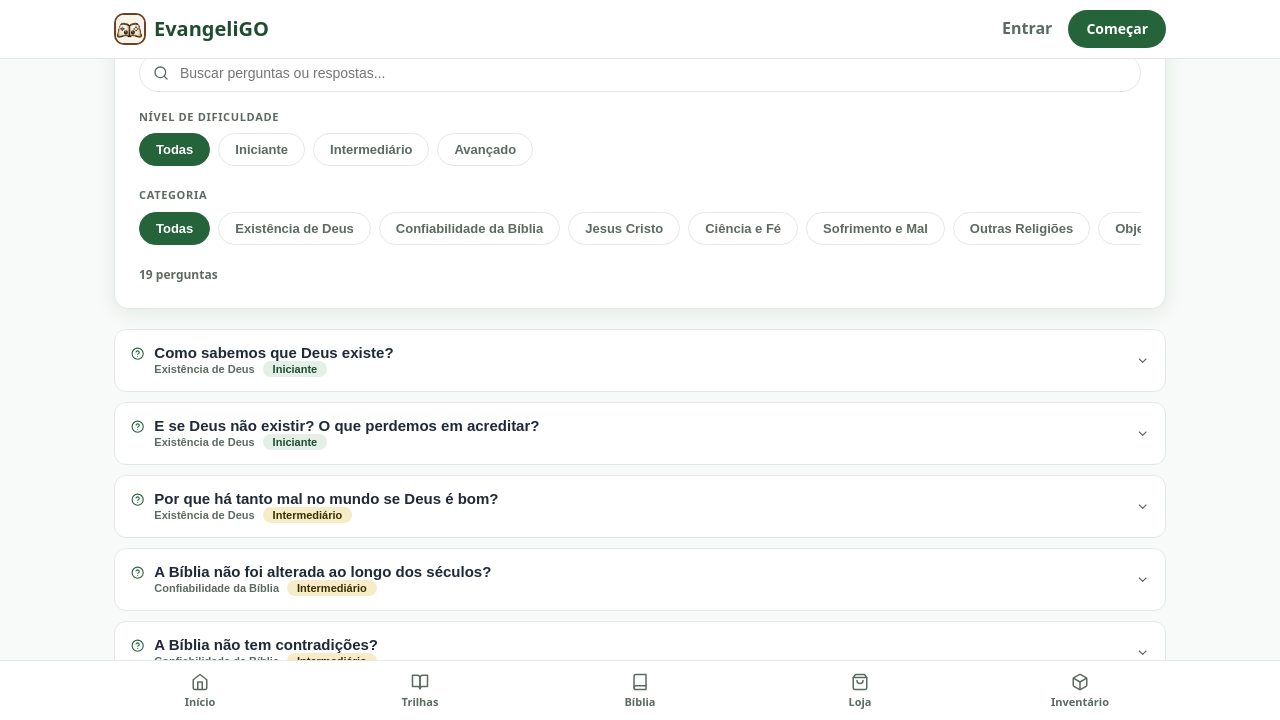
Test: ApologeticaPage › marca a pergunta como estudada ao expandir
The width and height of the screenshot is (1280, 720).
(page scrolled)
Click the button "Como sabemos que Deus existe? Existência de Deus Iniciante". click: (274, 353)
box: [115, 330, 1165, 391]
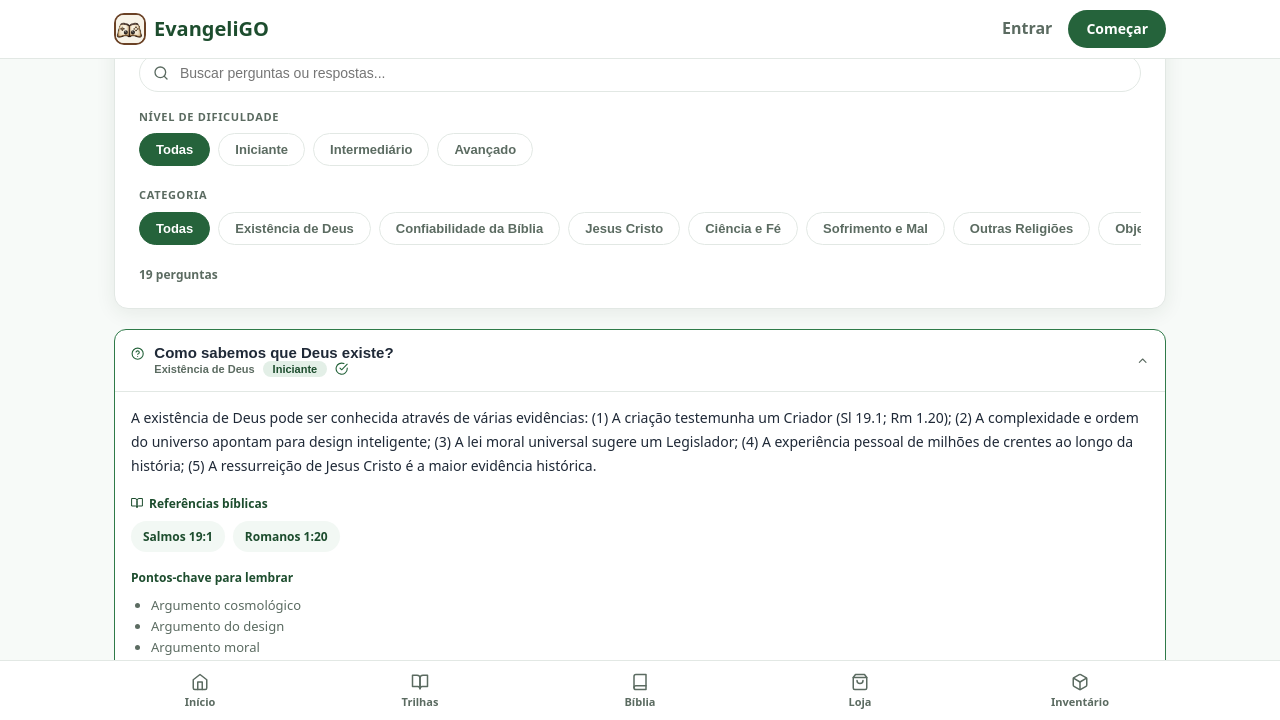
Expected: the icon named "Já estudada" is shown, [335, 362, 348, 376]
